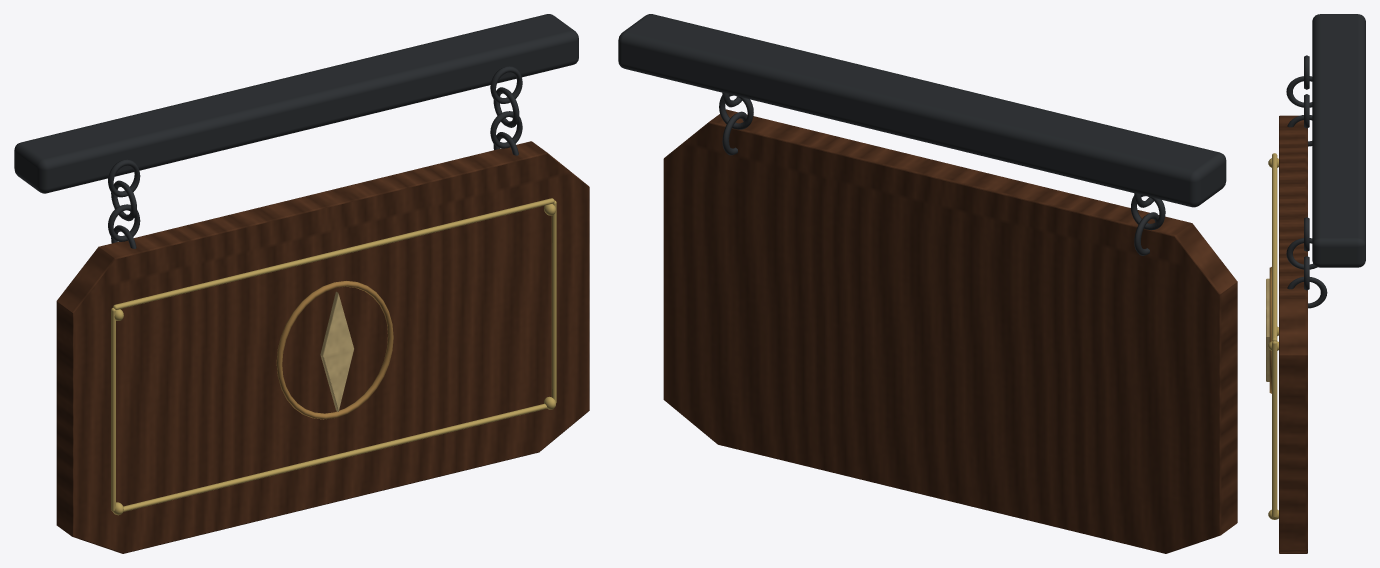
File: wall-sign.glb
3 renders of one model, left to right at view 1: azimuth 30°, elevation 25°; view 2: azimuth 150°, elevation 25°; view 3: azimuth 270°, elevation 25°, orthographic. The views are drawn at different scales.
Visible parts, largest first — view 1: articulation, wall-sign; view 2: articulation, wall-sign; view 3: wall-sign, articulation.
Part boxes in pixels (x1,y1,x2,y2): articulation: (56,141,589,553); wall-sign: (14,14,578,248); articulation: (663,109,1237,553); wall-sign: (618,14,1226,255); wall-sign: (1286,14,1365,308); articulation: (1266,115,1307,553).
Bounding box in the file's own units: 0.65 × 0.45 × 0.12.
5 materials, 2 textured.
